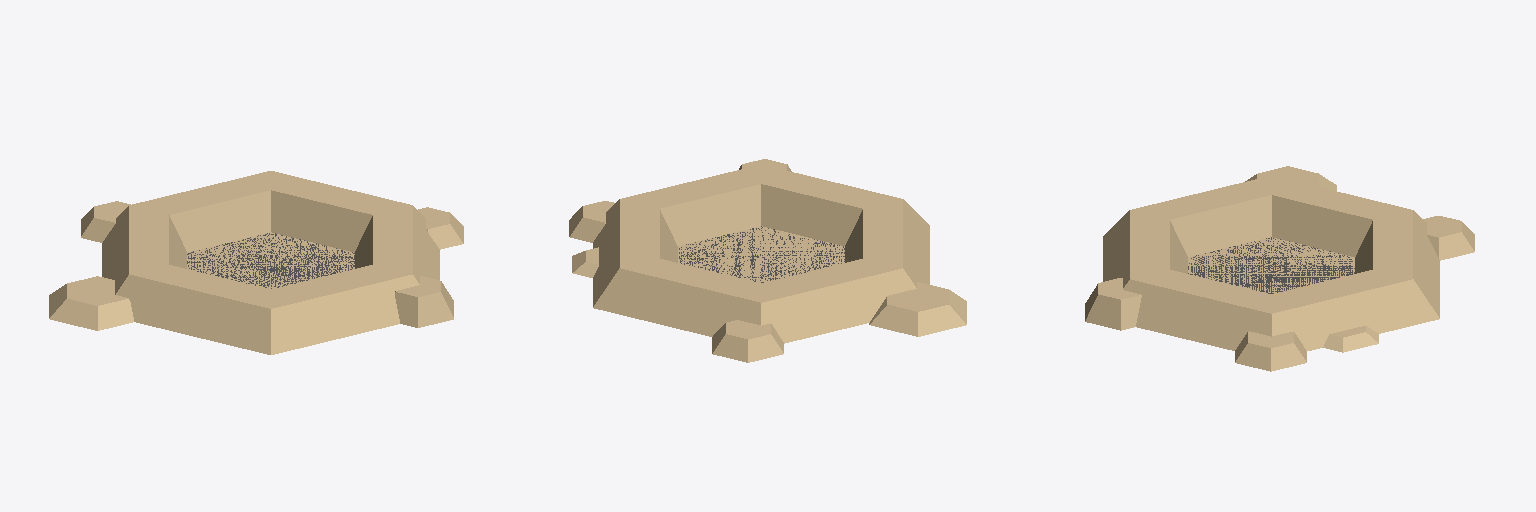
Rendered from hole.obj.
3 renders of one model, left to right at view 1: azimuth 30°, elevation 25°; view 2: azimuth 150°, elevation 25°; view 3: azimuth 270°, elevation 25°, orthographic.
Visible parts, largest first — view 1: hole; view 2: hole; view 3: hole.
Part boxes in pixels (bbox=[...]): hole: bbox=[49, 171, 463, 354]; hole: bbox=[569, 159, 966, 362]; hole: bbox=[1085, 166, 1474, 371].
Size of the model in its own units: 10.23 by 0.8 by 8.51.